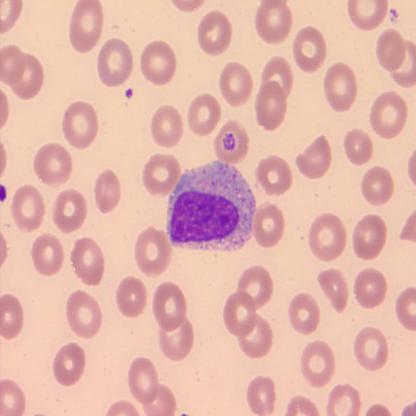NRC: (162, 157, 257, 253)
